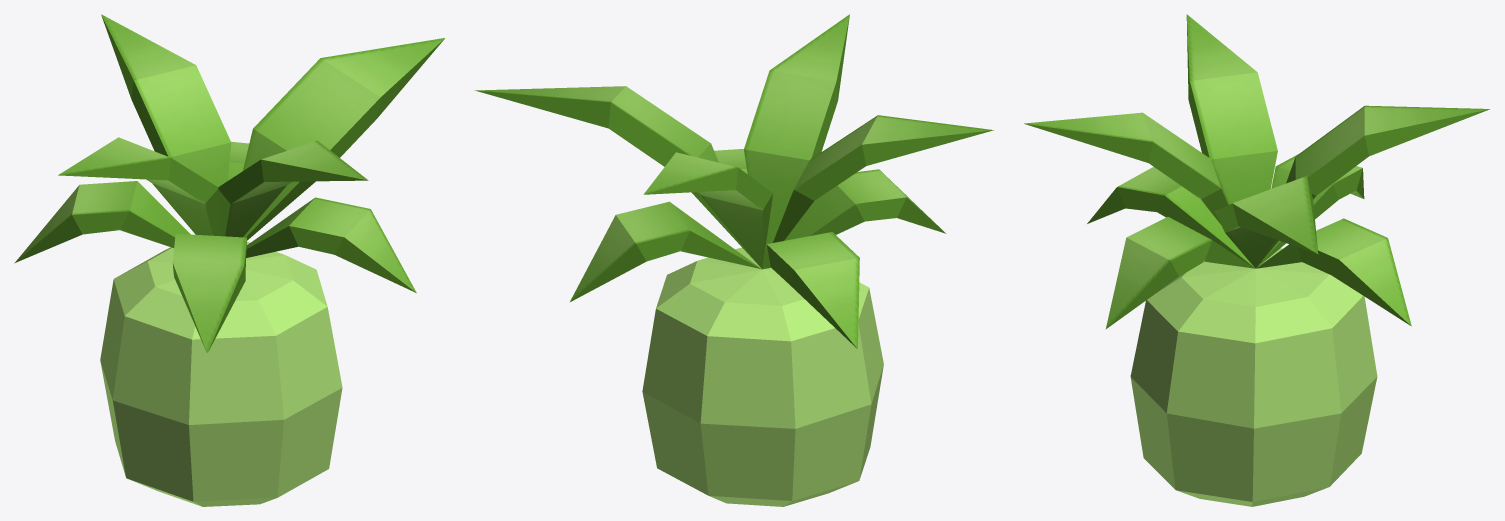
The model's file is Asset_Ress_Ananas.fbx.
The picture shows the model from 3 angles, left to right: view 1: azimuth 30°, elevation 25°; view 2: azimuth 150°, elevation 25°; view 3: azimuth 270°, elevation 25°; orthographic projection.
Parts seen in each view (by area): view 1: Asset_Ress_Ananas; view 2: Asset_Ress_Ananas; view 3: Asset_Ress_Ananas.
Part boxes in pixels (left/top/right/bottom): Asset_Ress_Ananas: left=14, top=14, right=444, bottom=506; Asset_Ress_Ananas: left=474, top=14, right=994, bottom=506; Asset_Ress_Ananas: left=1024, top=14, right=1490, bottom=506.
Bounding box in the file's own units: 30.97 × 24.8 × 28.03.
